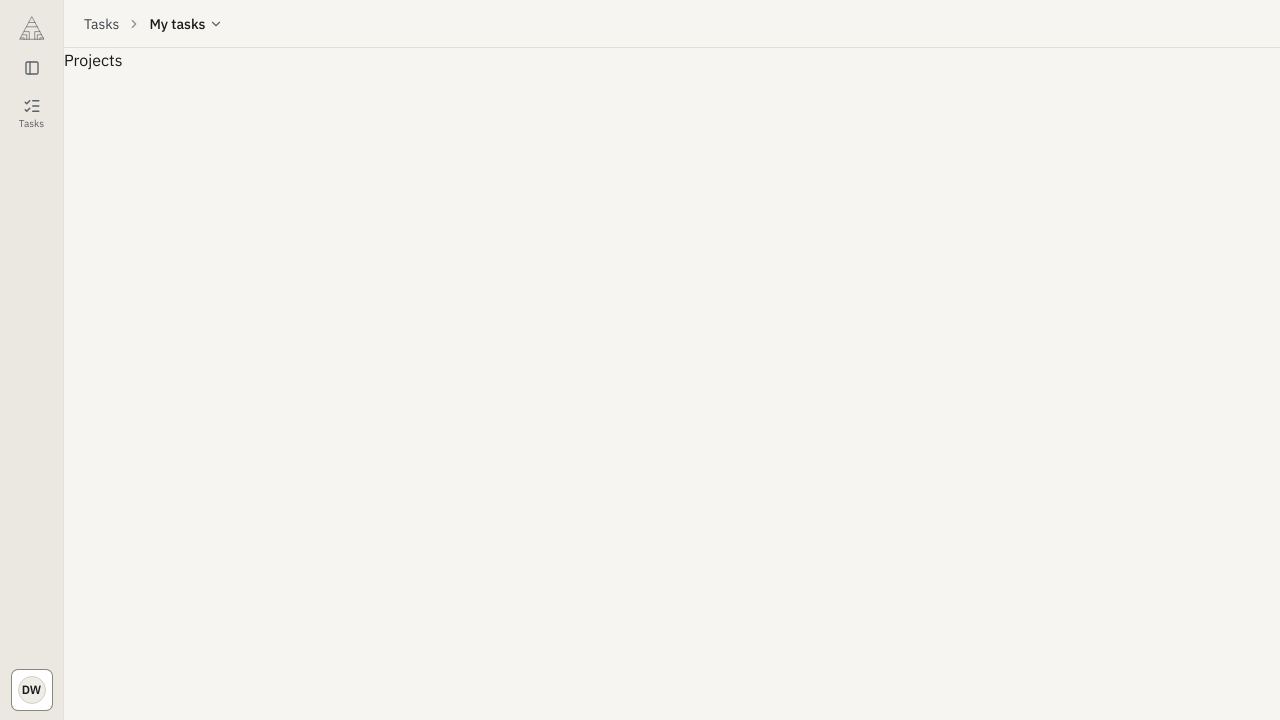
Scenario: moves the current view into a switcher while the drawer is collapsed
Press Tab
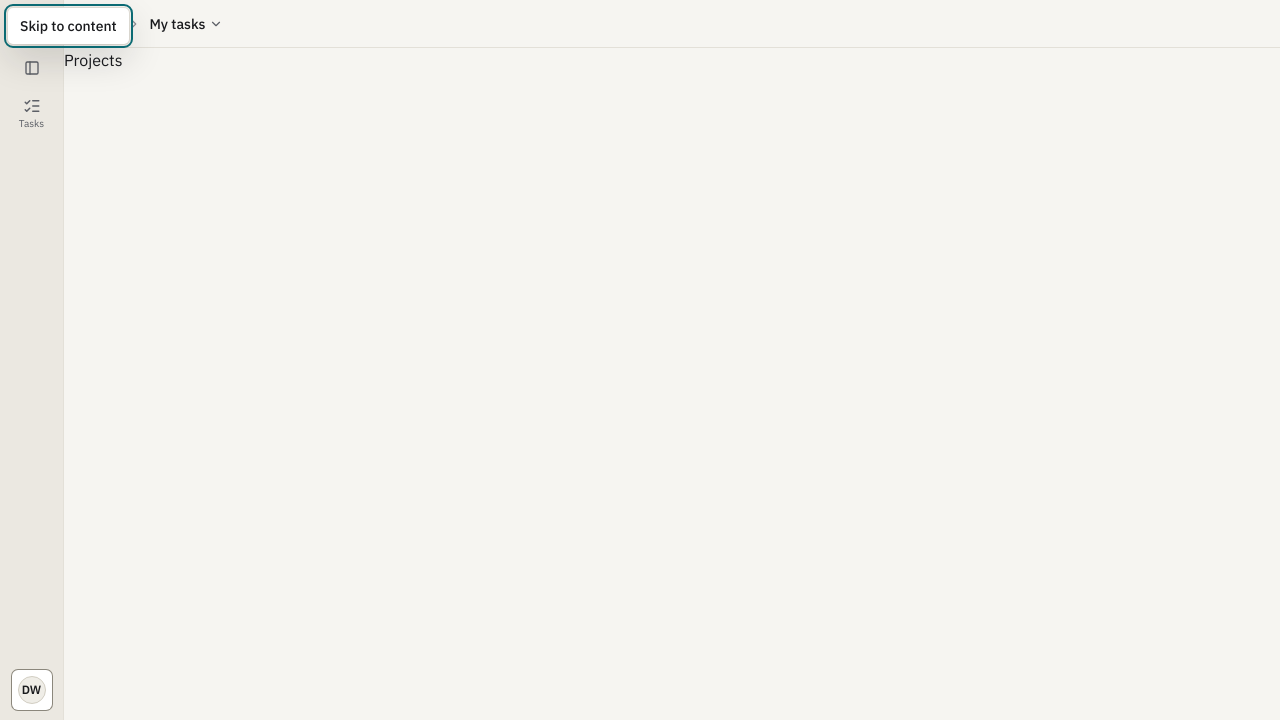
Click the button with aria-label "Tasks views: My tasks".
click(186, 24)  # box left=145, top=12, right=228, bottom=36
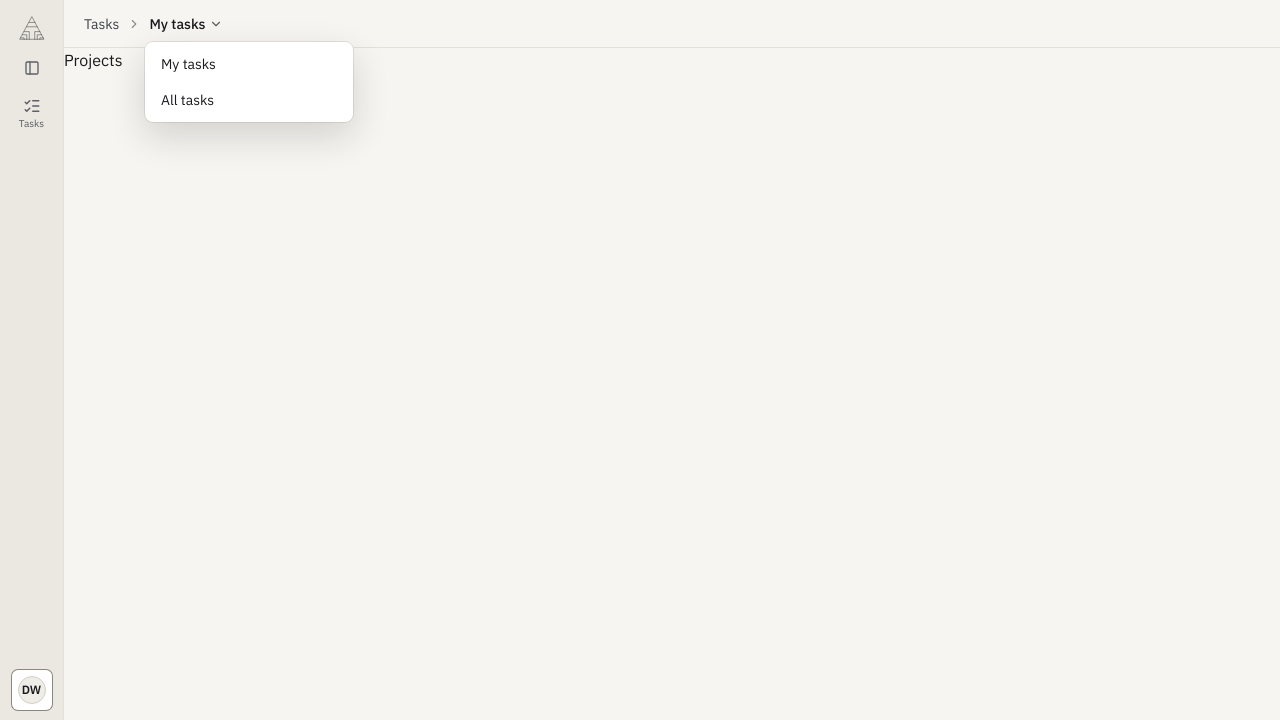
Result: the menu item "My tasks" is shown at left=161, top=55, right=216, bottom=73
Result: the menu item "All tasks" is shown at left=161, top=91, right=214, bottom=109
